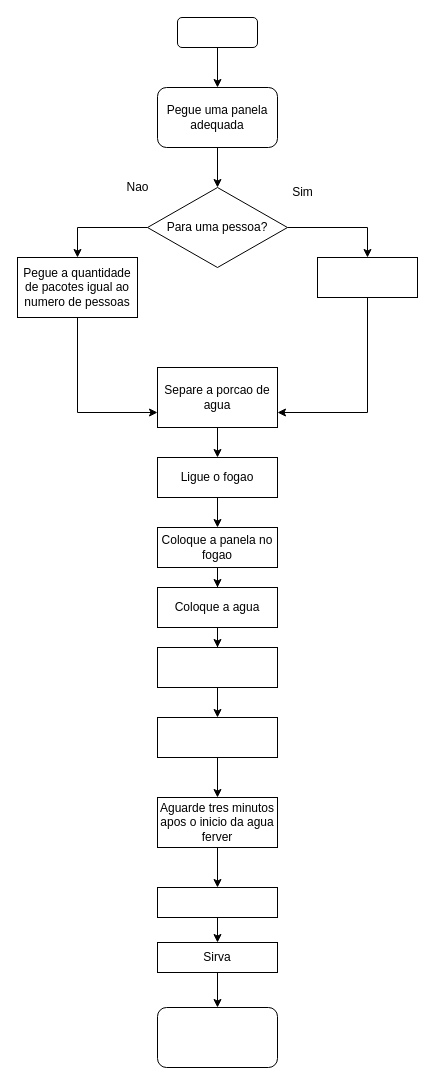
Image size: 435x1085. Some labels were removed from this diagram. Each missing label, with the centre of its shape:
Coloque o tempero: the point at 217,737
Coloque os macarroes: the point at 217,667
Desligue o fogao: the point at 217,902
Inicio: the point at 217,32
Pegue 1 pacote: the point at 367,277
